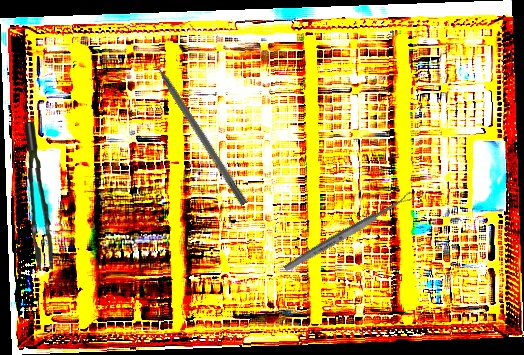Pusher: (143, 45, 250, 207)
Surgical Spoon: (282, 190, 416, 274)
Tissue Forceps: (22, 121, 56, 272)
